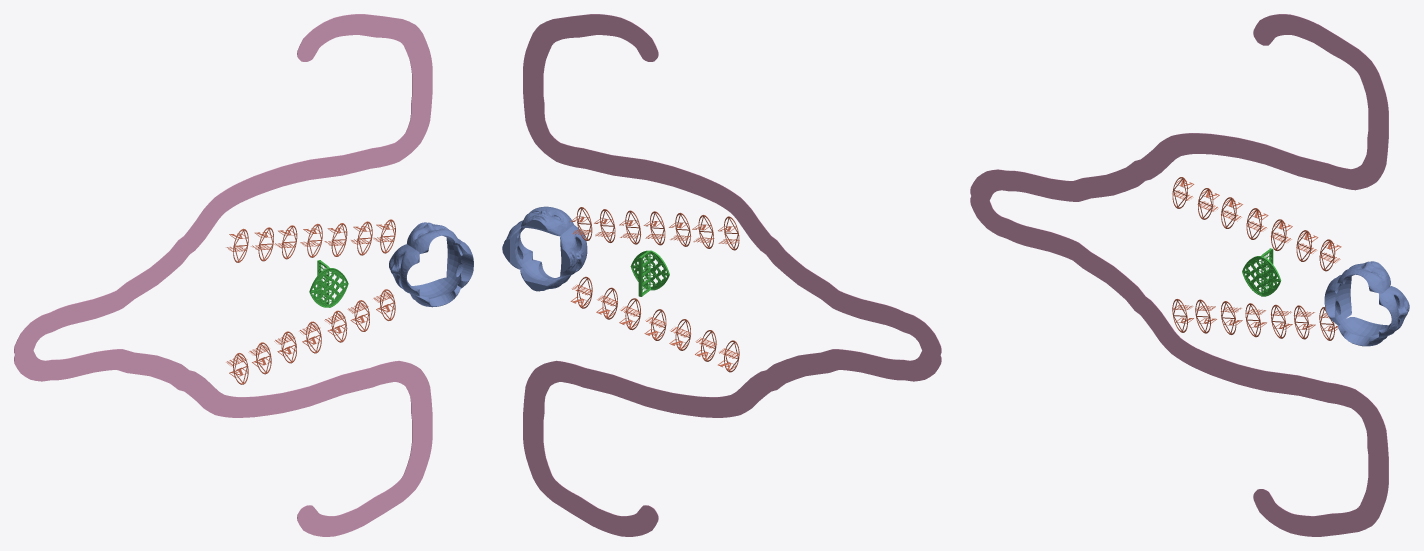
File: tinker.obj
3 renders of one model, left to right at view 1: azimuth 30°, elevation 25°; view 2: azimuth 150°, elevation 25°; view 3: azimuth 330°, elevation 25°, orthographic.
Visible parts, largest first — view 1: group_0_15708628, group_0_13463636, group_0_7571642, group_0_4634441; view 2: group_0_15708628, group_0_13463636, group_0_7571642, group_0_4634441; view 3: group_0_15708628, group_0_13463636, group_0_7571642, group_0_4634441.
Boxes of the visible parts, bbox=[...] form: group_0_15708628: bbox=[14, 14, 432, 536]; group_0_13463636: bbox=[226, 219, 395, 384]; group_0_7571642: bbox=[389, 222, 473, 307]; group_0_4634441: bbox=[309, 260, 348, 307]; group_0_15708628: bbox=[523, 14, 941, 536]; group_0_13463636: bbox=[570, 207, 739, 372]; group_0_7571642: bbox=[502, 206, 587, 291]; group_0_4634441: bbox=[630, 250, 669, 296]; group_0_15708628: bbox=[970, 14, 1388, 536]; group_0_13463636: bbox=[1172, 177, 1341, 340]; group_0_7571642: bbox=[1324, 261, 1409, 346]; group_0_4634441: bbox=[1242, 248, 1281, 296].
Bounding box in the file's own units: 698 × 777 × 58.
